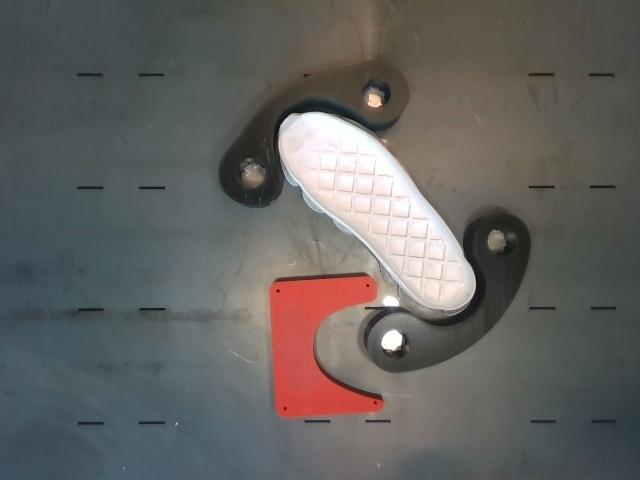shoes: (280, 113, 474, 308)
